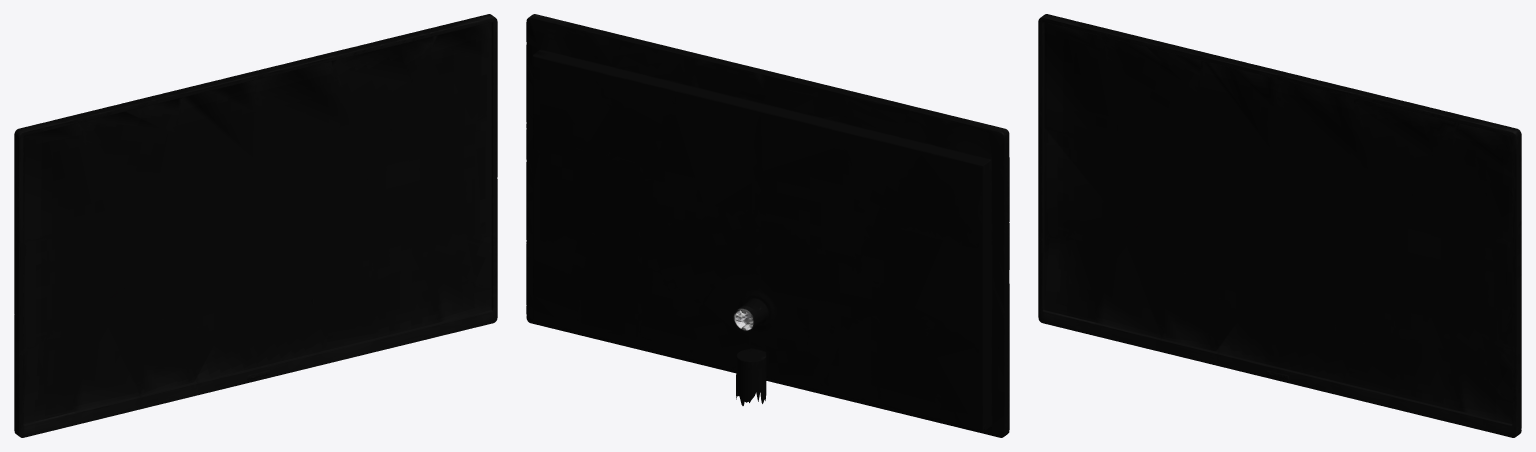
File: tv-monitor.glb
3 renders of one model, left to right at view 1: azimuth 30°, elevation 25°; view 2: azimuth 150°, elevation 25°; view 3: azimuth 330°, elevation 25°, orthographic.
Size of the model in its own units: 1.9 by 1.2 by 0.1868.
1 material, 1 textured.
